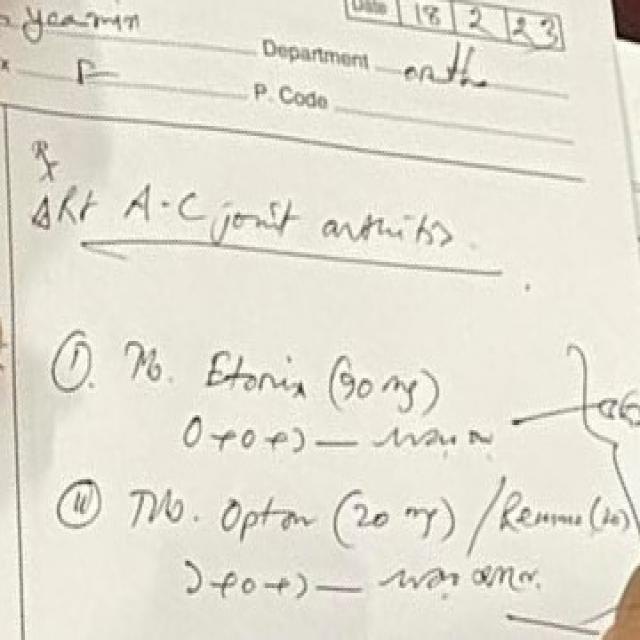Etorix: (199, 338, 321, 412)
Opton: (207, 484, 318, 550)
